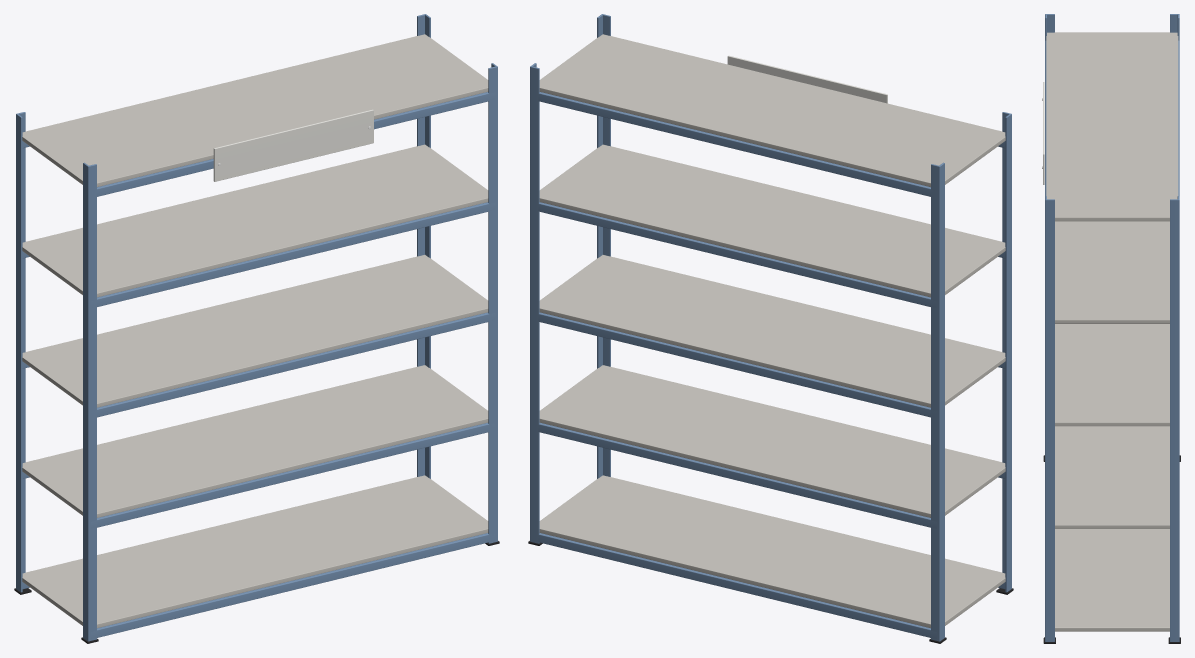
The model's file is shelf_wide.glb.
3 views of the same model, side by side, from view 1: azimuth 30°, elevation 25°; view 2: azimuth 150°, elevation 25°; view 3: azimuth 270°, elevation 25° (orthographic). The views are drawn at different scales.
Visible parts, largest first — view 1: SM_shelf_wide; view 2: SM_shelf_wide; view 3: SM_shelf_wide.
Boxes of the visible parts, bbox=[...] form: SM_shelf_wide: bbox=[14, 14, 499, 643]; SM_shelf_wide: bbox=[528, 14, 1013, 643]; SM_shelf_wide: bbox=[1042, 14, 1180, 643].
Size of the model in its own units: 1.81 by 2 by 0.567.
